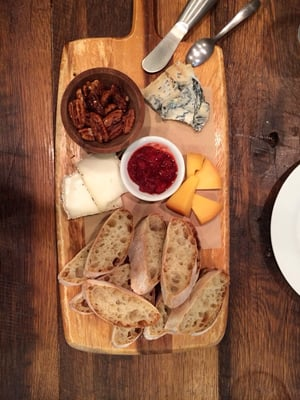salad: (141, 0, 218, 75), (185, 0, 261, 68)
sushi: (60, 67, 148, 156), (119, 136, 186, 204)
